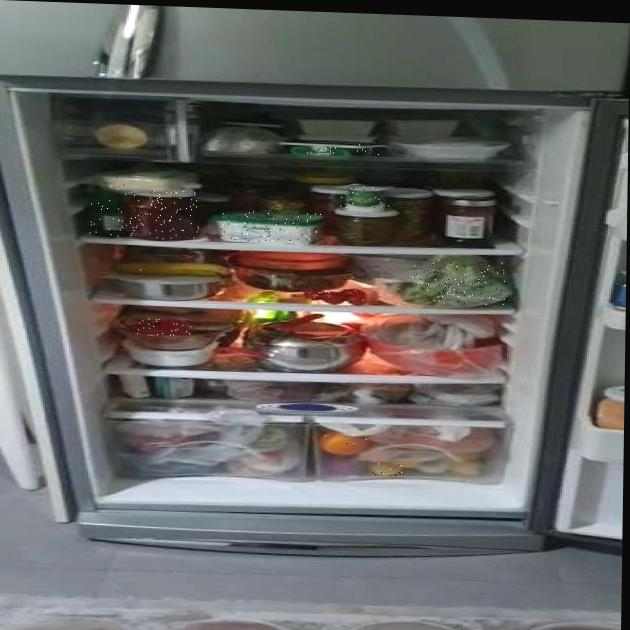banana: (117, 260, 225, 277)
cheese: (218, 210, 321, 244), (109, 170, 194, 192)
cream cheese: (284, 140, 384, 156)
lemon: (368, 462, 403, 476)
lettuce: (411, 257, 506, 306)
mineral water: (90, 186, 127, 237)
orange: (320, 431, 368, 454)
tomato: (134, 318, 191, 336), (306, 288, 367, 304)
tomato paste: (130, 190, 199, 240)
yoghurt: (340, 183, 389, 212)
